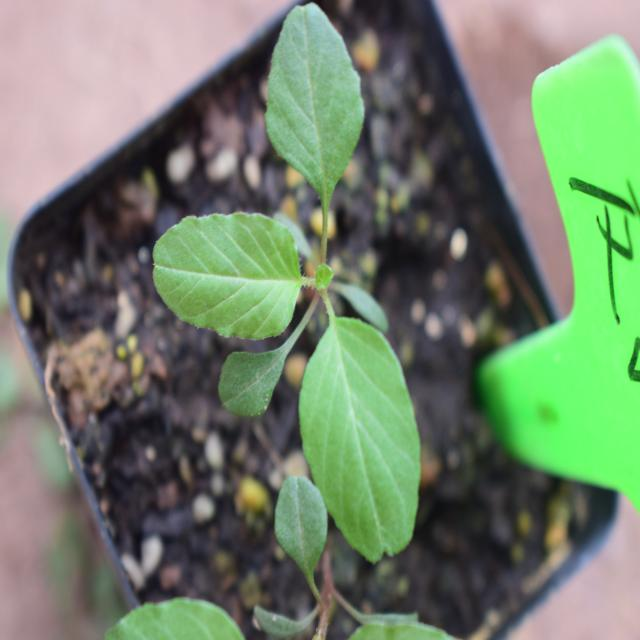pigweed: (164, 0, 460, 568)
